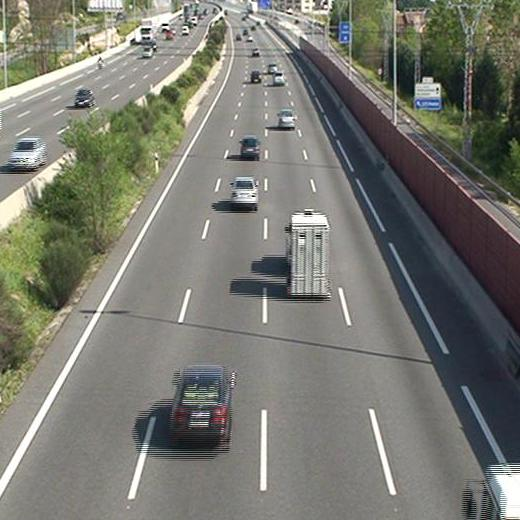car: (170, 367, 233, 445), (229, 177, 258, 208), (241, 137, 261, 158), (278, 109, 295, 128), (273, 71, 286, 85), (250, 70, 262, 83), (267, 62, 278, 73)
small-truck: (287, 213, 332, 298)
